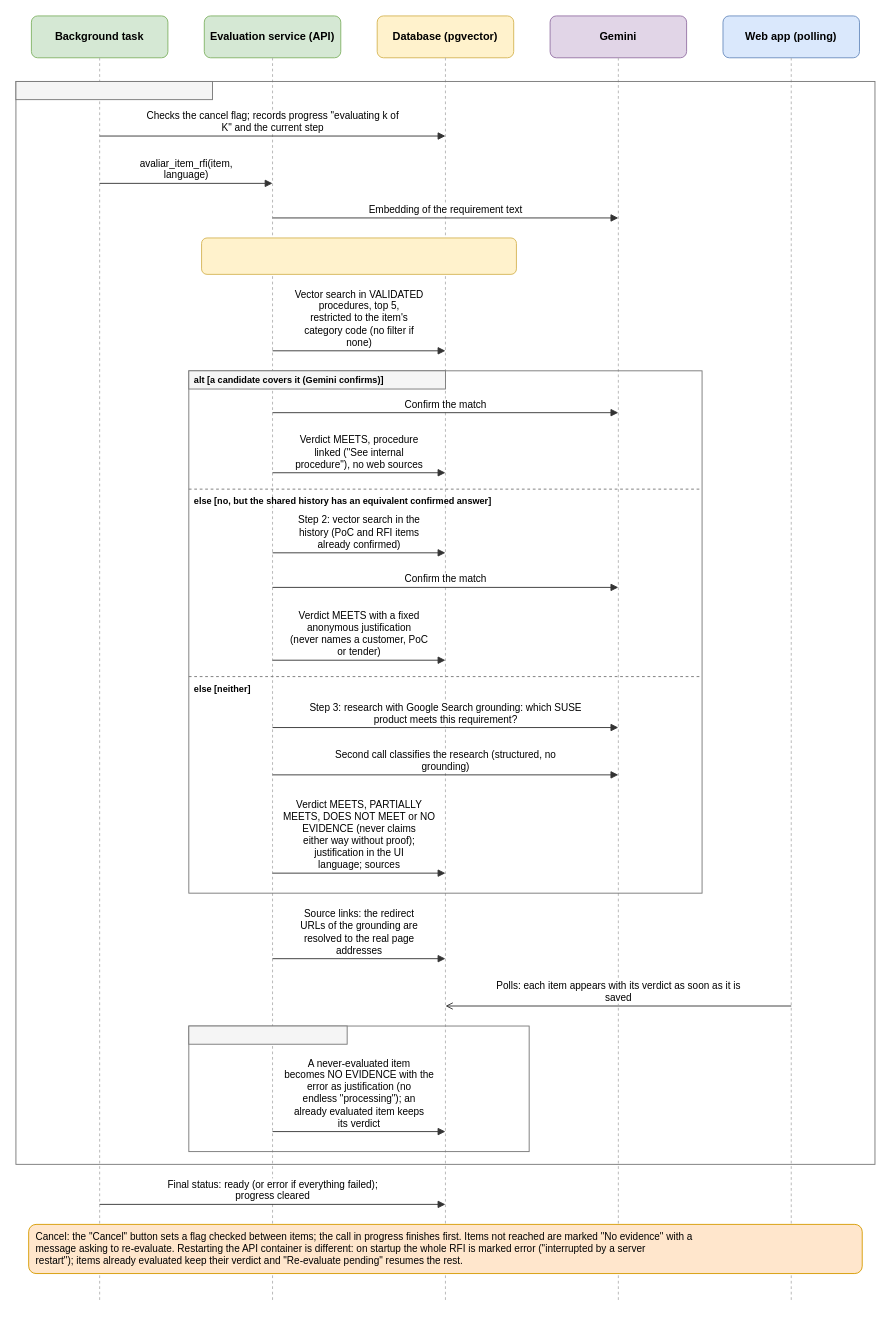
This 891x1320 diagram has some shape labels left out. The box of each missing label's shape, as (x1, y1, x2, y2) in pixels:
loop [for each new item, in order]: (15, 81, 212, 100)
opt [the Gemini call fails]: (188, 1025, 347, 1044)
Step 1: internal procedures first (cheapest, and the strongest evidence).: (201, 237, 516, 274)
